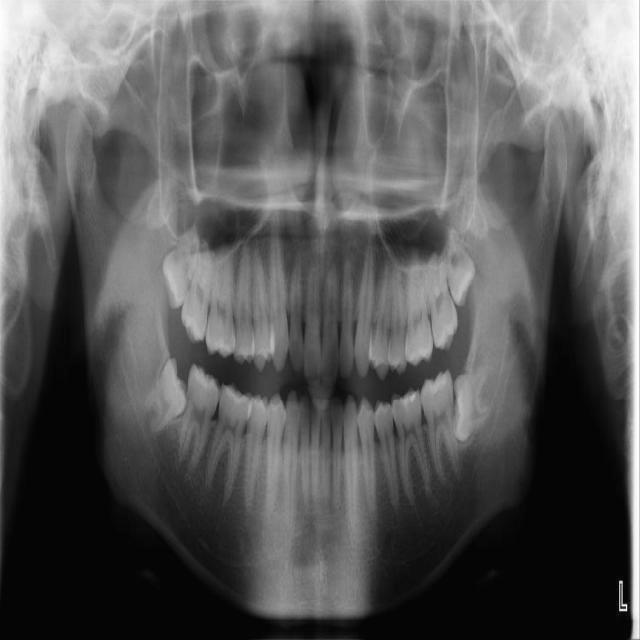impacted tooth: (132, 356, 186, 434), (454, 363, 499, 440), (162, 223, 201, 309), (445, 223, 478, 304)
